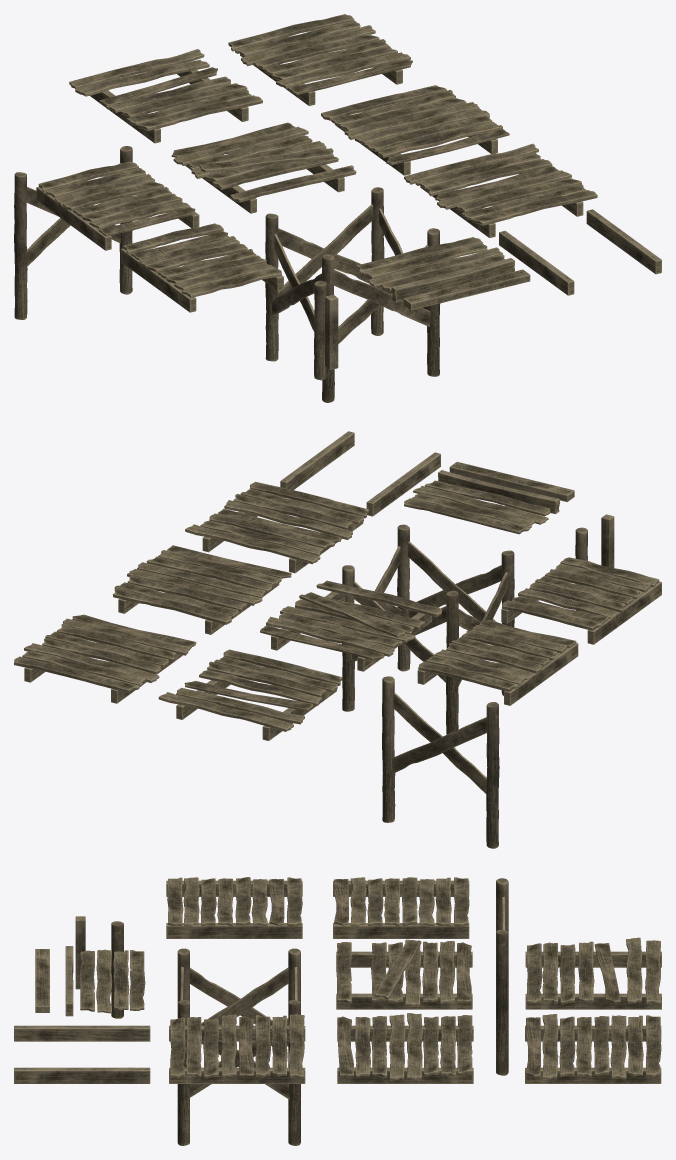
File: loose_platforms.glb
The picture shows the model from 3 angles, top to bottom: view 1: azimuth 30°, elevation 25°; view 2: azimuth 150°, elevation 25°; view 3: azimuth 270°, elevation 25°; orthographic projection.
Parts seen in each view (by area): view 1: cube_019, cube_007, cube_001, cube_002, cube_003, cube_012, cube_014, cube_015, cube_016, cube_013, cube_005, cube_004 (+6 smaller); view 2: cube_001, cube_019, cube_007, cube_002, cube_003, cube_012, cube_015, cube_014, cube_016, cube_013, cube_005, cube_004 (+5 smaller); view 3: cube_002, cube_007, cube_001, cube_012, cube_003, cube_014, cube_015, cube_019, cube_013, cube_016, cube_005, cube_010 (+6 smaller).
Boxes of the visible parts, x1=… form: cube_019: x1=265, y1=187, x2=440, y2=402; cube_007: x1=228, y1=14, x2=412, y2=105; cube_001: x1=404, y1=143, x2=597, y2=237; cube_002: x1=321, y1=85, x2=509, y2=175; cube_003: x1=69, y1=49, x2=262, y2=143; cube_012: x1=171, y1=122, x2=356, y2=213; cube_014: x1=36, y1=161, x2=199, y2=250; cube_015: x1=121, y1=223, x2=283, y2=312; cube_016: x1=14, y1=146, x2=132, y2=319; cube_013: x1=499, y1=209, x2=661, y2=295; cube_005: x1=403, y1=269, x2=530, y2=310; cube_004: x1=391, y1=258, x2=514, y2=302; cube_001: x1=185, y1=481, x2=368, y2=573; cube_019: x1=342, y1=524, x2=514, y2=734; cube_007: x1=14, y1=614, x2=196, y2=703; cube_002: x1=112, y1=545, x2=291, y2=634; cube_003: x1=158, y1=649, x2=342, y2=740; cube_012: x1=260, y1=580, x2=442, y2=671; cube_015: x1=501, y1=557, x2=661, y2=644; cube_014: x1=417, y1=620, x2=578, y2=705; cube_016: x1=382, y1=676, x2=499, y2=848; cube_013: x1=280, y1=431, x2=440, y2=516; cube_005: x1=449, y1=461, x2=574, y2=501; cube_004: x1=438, y1=470, x2=560, y2=514; cube_002: x1=337, y1=1013, x2=473, y2=1083; cube_007: x1=525, y1=1014, x2=661, y2=1083; cube_001: x1=169, y1=1014, x2=305, y2=1083; cube_012: x1=336, y1=939, x2=472, y2=1009; cube_003: x1=525, y1=937, x2=661, y2=1009; cube_014: x1=333, y1=877, x2=469, y2=938; cube_015: x1=166, y1=877, x2=302, y2=938; cube_019: x1=177, y1=948, x2=300, y2=1145; cube_013: x1=14, y1=1025, x2=150, y2=1083; cube_016: x1=496, y1=878, x2=508, y2=1075; cube_005: x1=35, y1=949, x2=49, y2=1012; cube_010: x1=96, y1=949, x2=112, y2=1013.
Bounding box in the file's own units: 20.24 × 7.11 × 27.5.
Materials: 1 (1 with a texture image).
